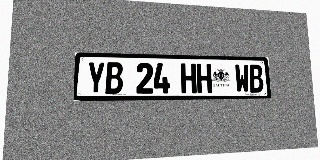2: (136, 62, 153, 94)
4: (153, 63, 170, 93)
B: (105, 62, 123, 94), (249, 64, 264, 93)
H: (181, 63, 197, 93), (196, 64, 212, 93)
W: (234, 64, 250, 93)
Y: (86, 62, 105, 94)
